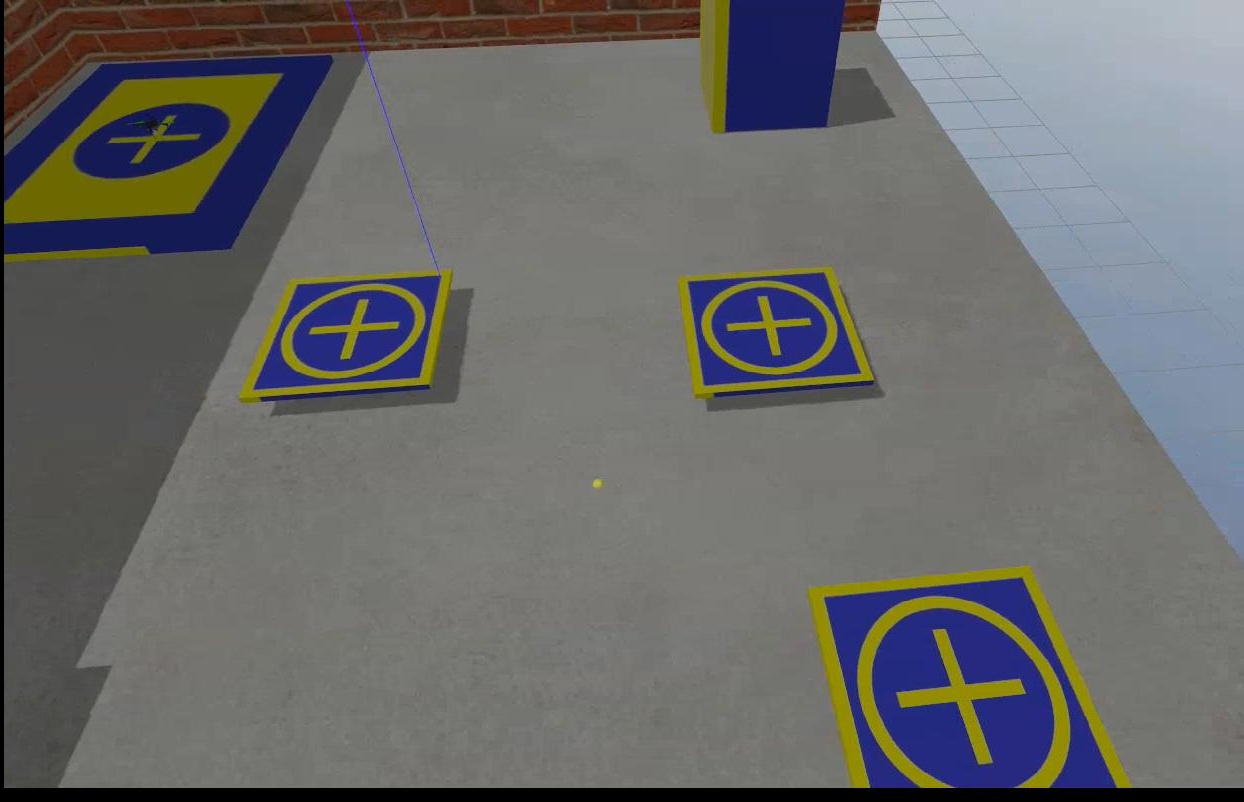large_base: (0, 52, 334, 263)
small_base: (808, 568, 1126, 788), (234, 270, 450, 410), (679, 267, 873, 401)
